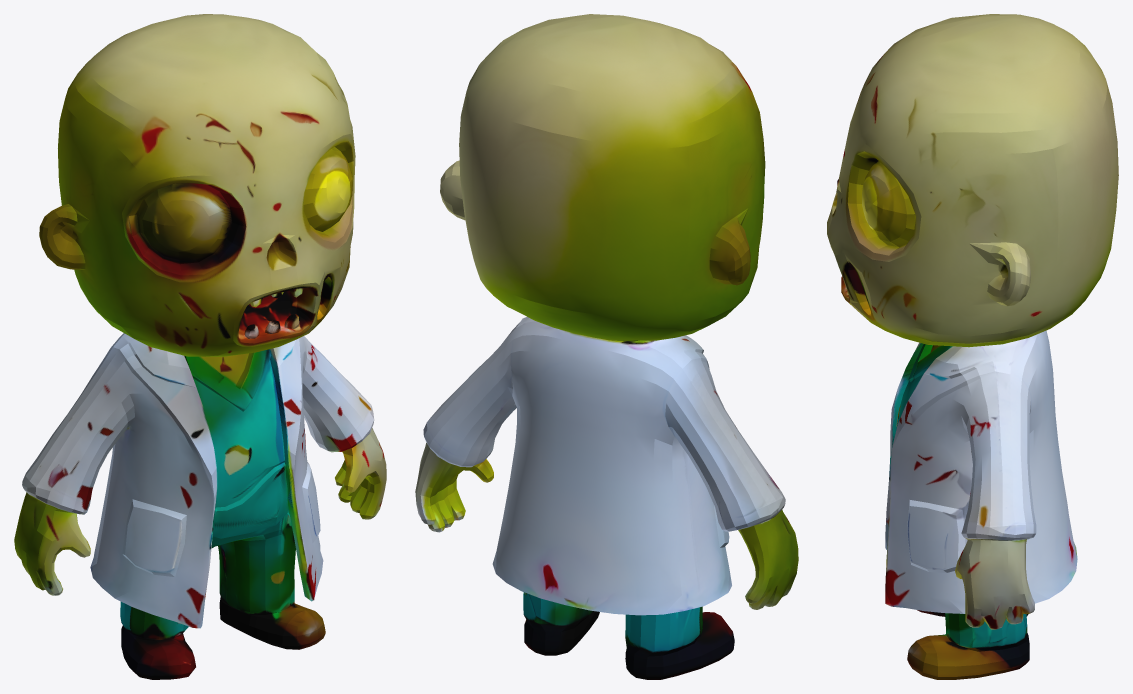
The model's file is base_basic_pbr.fbx.
The picture shows the model from 3 angles, left to right: view 1: azimuth 30°, elevation 25°; view 2: azimuth 150°, elevation 25°; view 3: azimuth 270°, elevation 25°; orthographic projection. The views are drawn at different scales.
Parts seen in each view (by area): view 1: model; view 2: model; view 3: model.
Boxes of the visible parts, <box> form: model: <box>14,14,386,679</box>; model: <box>415,14,798,679</box>; model: <box>827,14,1118,679</box>.
Bounding box in the file's own units: 116 × 190 × 83.71.
Materials: 1 (1 with a texture image).
